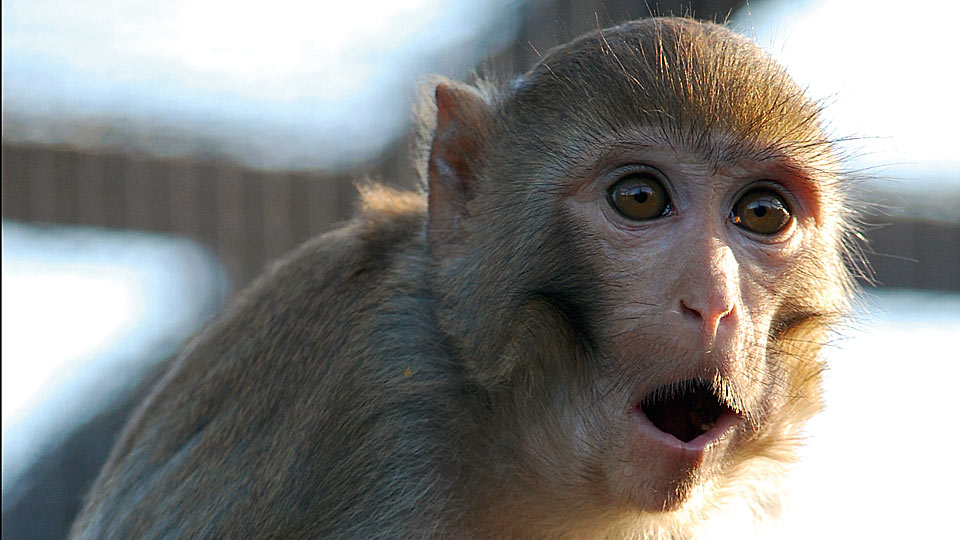monkey: (49, 13, 880, 540)
